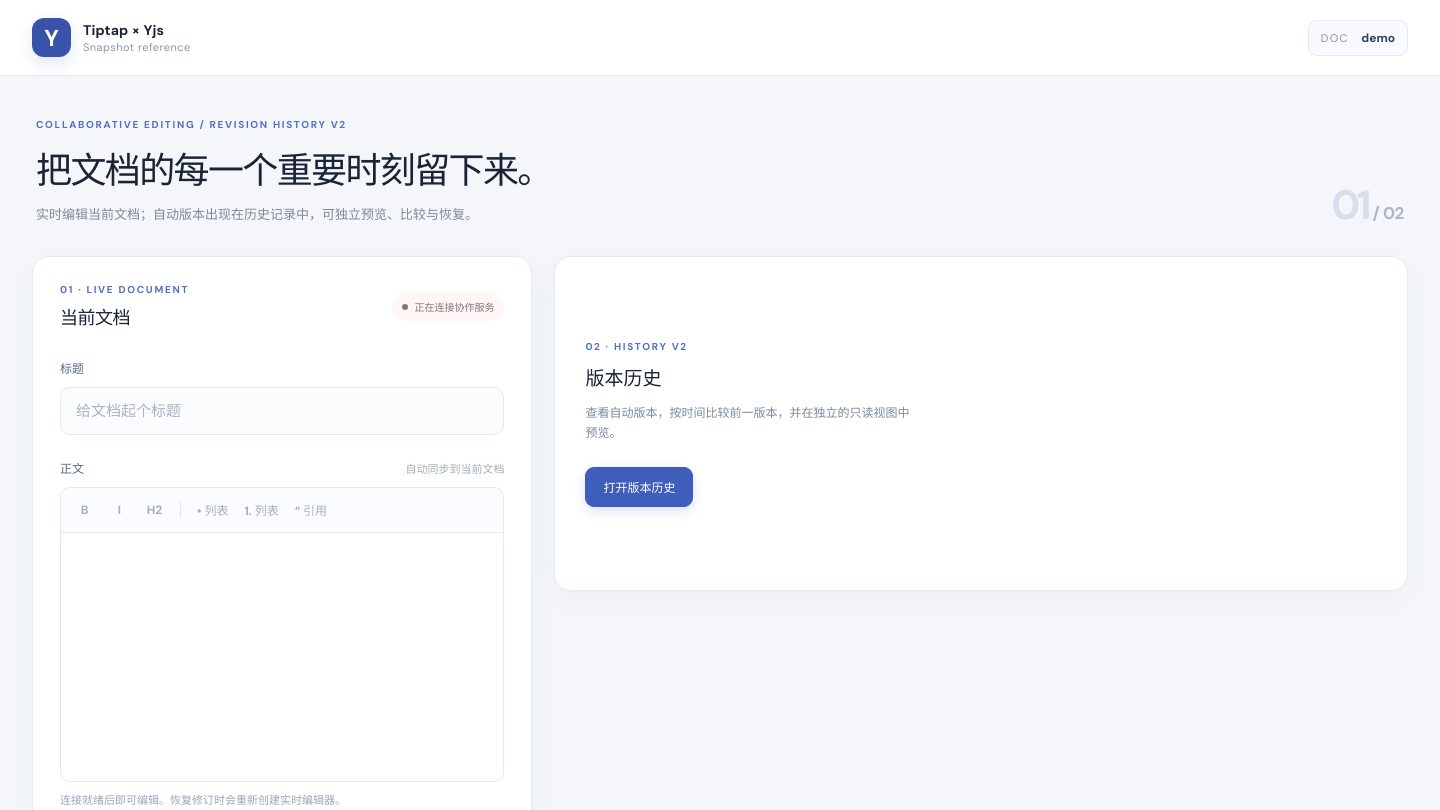
Scenario: snapshot UI › rechecks a previous revision in detail when list comparison metadata has changed
This screenshot has width=1440, height=810.
Click the button "打开版本历史": {"x": 639, "y": 488} [585,468,693,508]
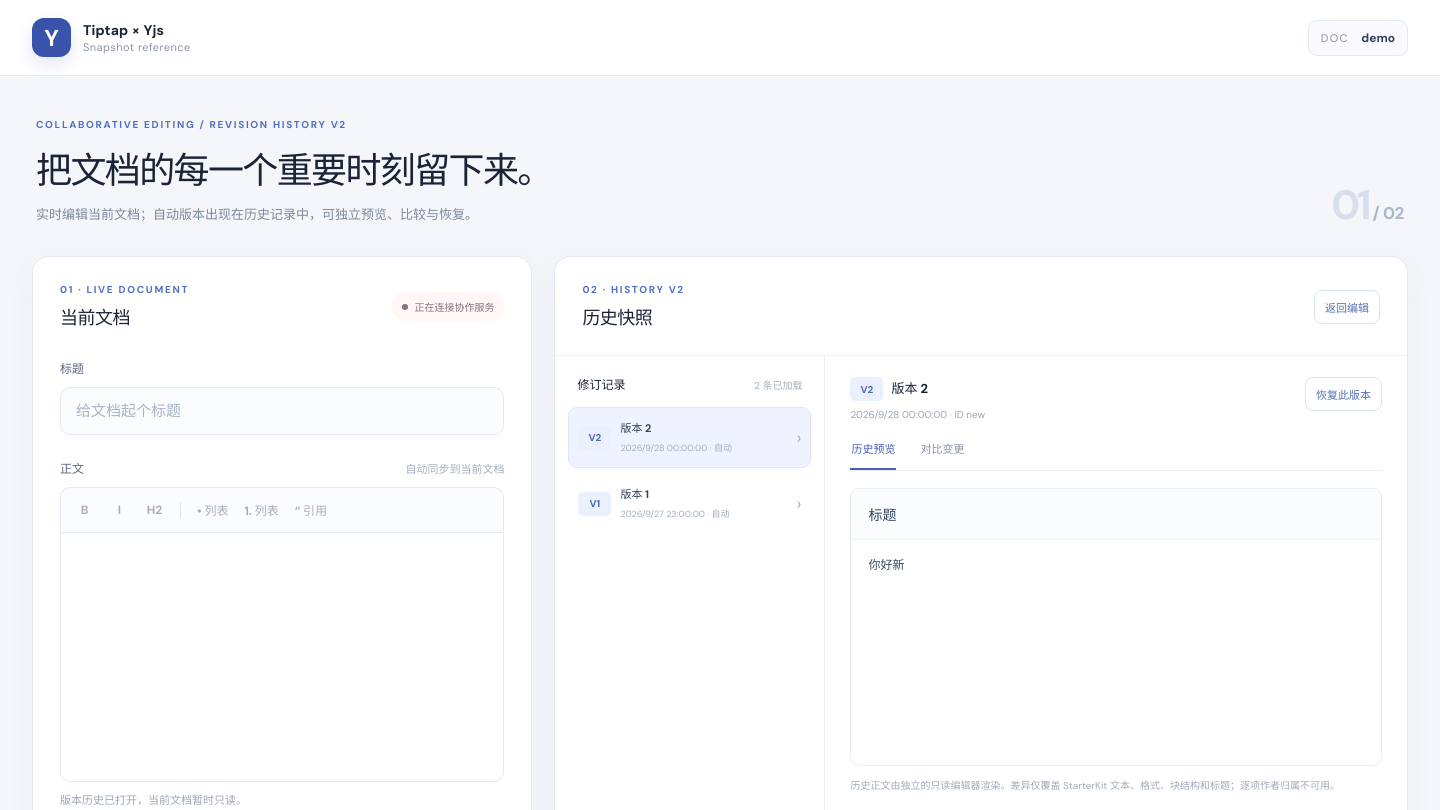
Click the tab "对比变更": {"x": 942, "y": 455} [919,440,965,470]
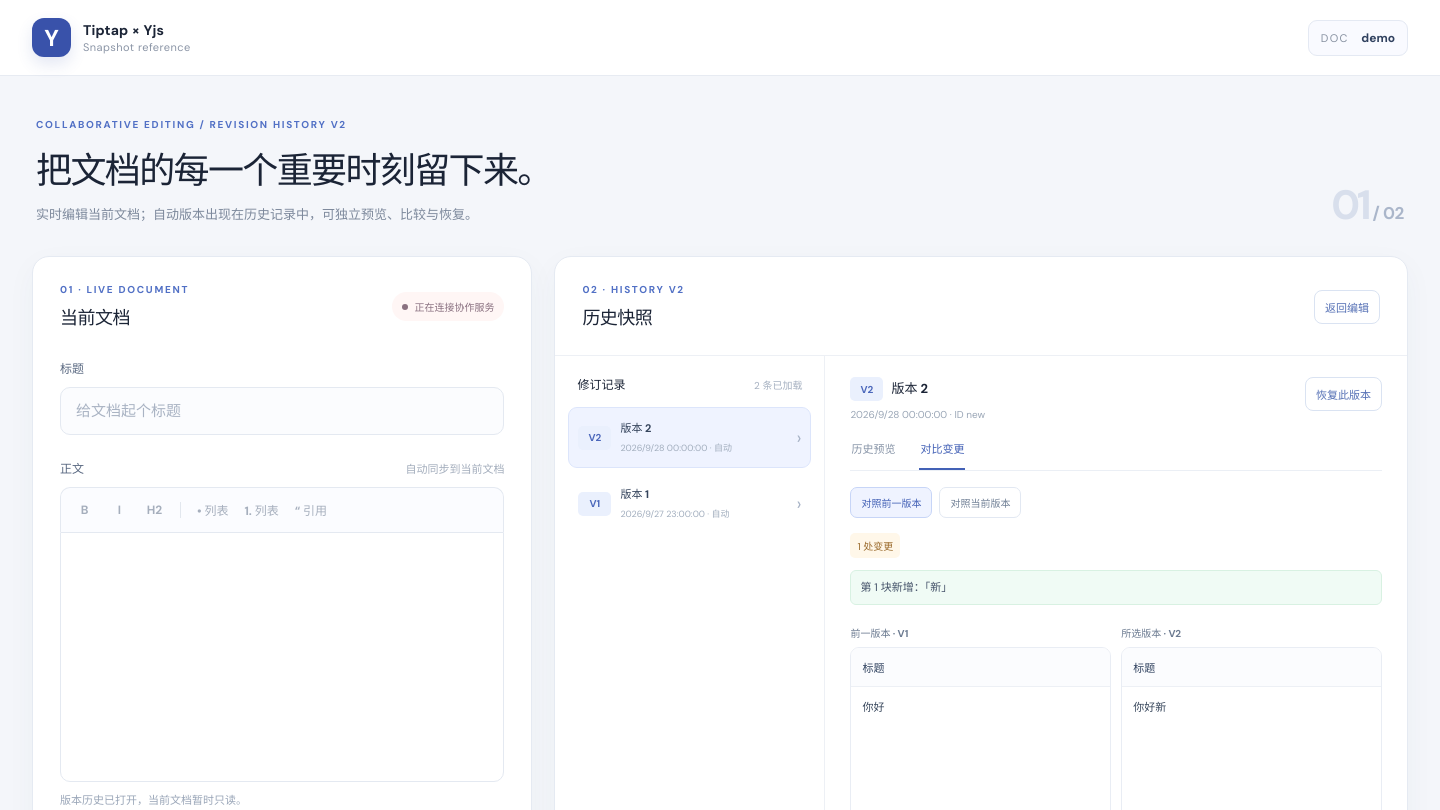
Expected: the list item "第 1 块新增：「新」" is shown, [850,570,1382,605]
